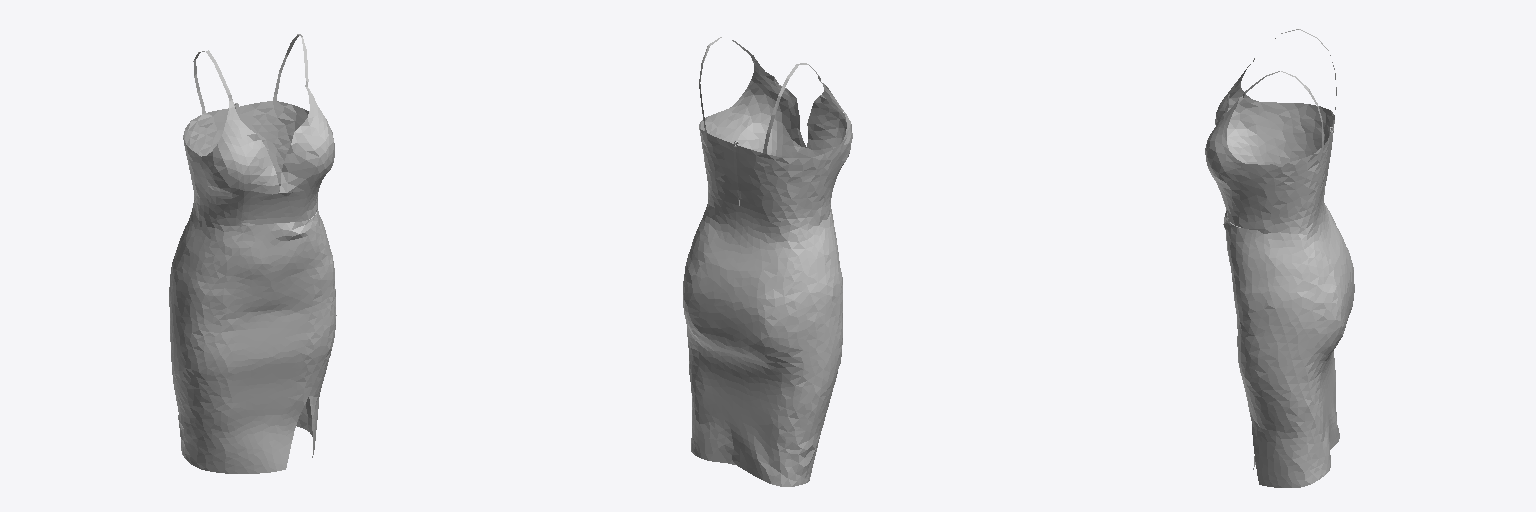
File: small_roseDress_noinside2.obj
3 renders of one model, left to right at view 1: azimuth 30°, elevation 25°; view 2: azimuth 150°, elevation 25°; view 3: azimuth 270°, elevation 25°, orthographic.
Visible parts, largest first — view 1: small_roseDress_noinside:polySurface2 small_roseDress_noinside:p; view 2: small_roseDress_noinside:polySurface2 small_roseDress_noinside:p; view 3: small_roseDress_noinside:polySurface2 small_roseDress_noinside:p.
Part boxes in pixels (x1,y1,x2,y2): small_roseDress_noinside:polySurface2 small_roseDress_noinside:p: (169,34,336,473); small_roseDress_noinside:polySurface2 small_roseDress_noinside:p: (683,37,852,486); small_roseDress_noinside:polySurface2 small_roseDress_noinside:p: (1205,29,1354,487).
Bounding box in the file's own units: 3.25 × 8.78 × 2.86.